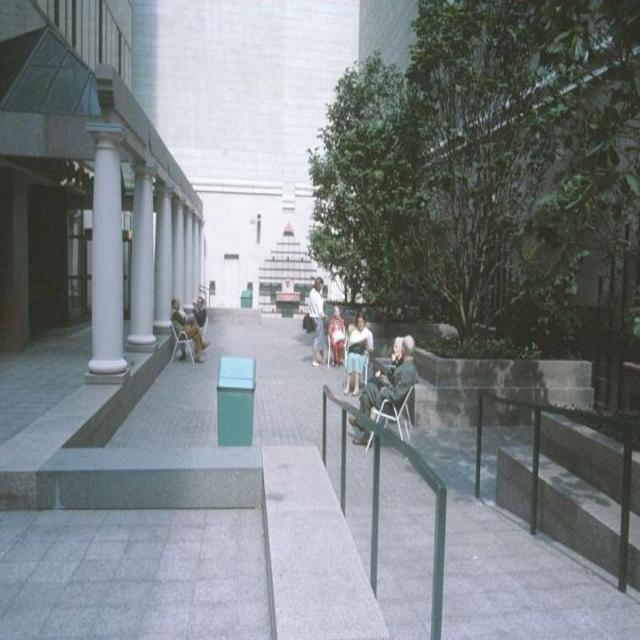body: (348, 333, 420, 448), (168, 296, 212, 364), (342, 310, 376, 398), (301, 275, 329, 368), (176, 296, 208, 363), (367, 336, 405, 390), (329, 306, 345, 368)
